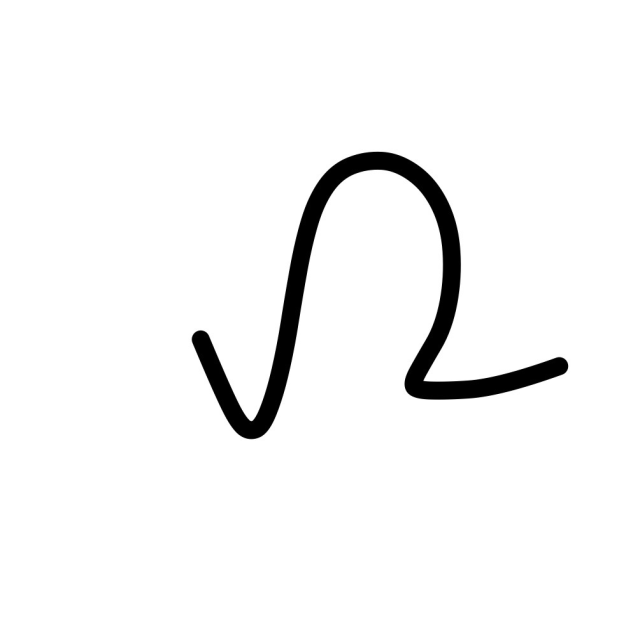ohms: (175, 38, 572, 534)
